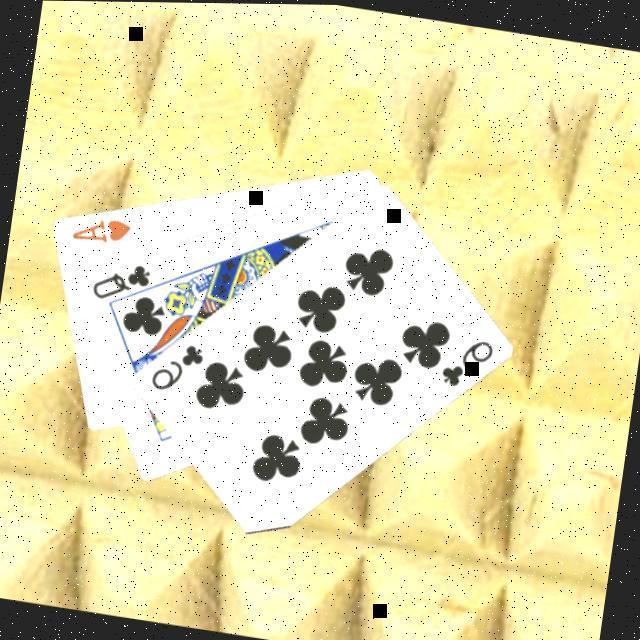9C: (435, 327, 499, 393), (146, 333, 209, 397)
AH: (69, 206, 137, 249)
QC: (88, 252, 156, 308)
